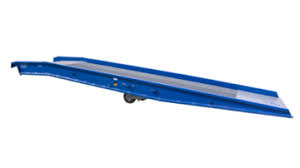Yard Ramp: (10, 56, 293, 121)
